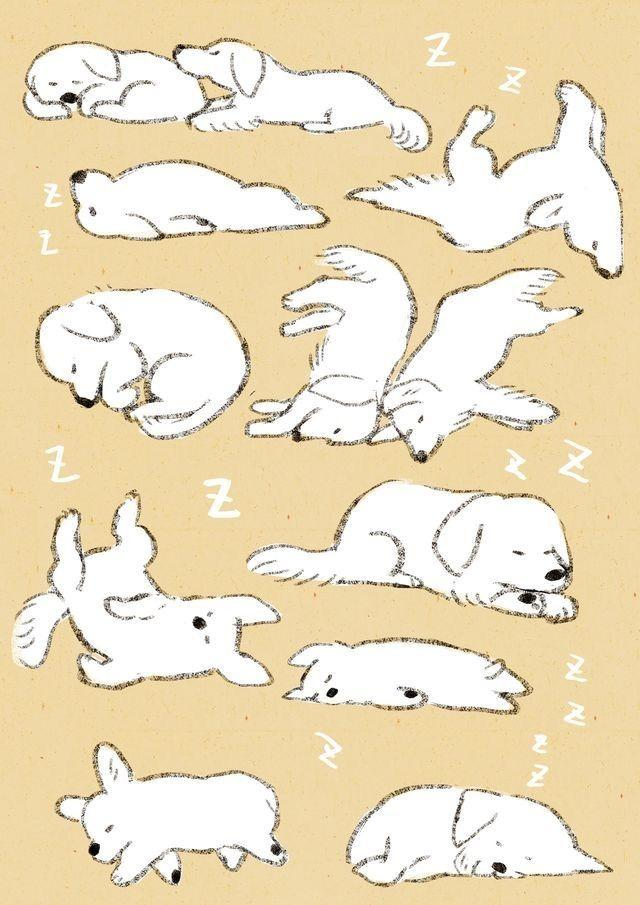puppy-dog: (343, 79, 628, 281), (10, 488, 283, 692), (247, 479, 581, 625), (370, 266, 586, 465), (242, 244, 421, 447), (54, 740, 292, 889), (33, 287, 253, 441), (174, 37, 436, 151), (342, 782, 616, 890), (68, 158, 332, 242), (281, 638, 535, 715), (22, 37, 210, 126)
